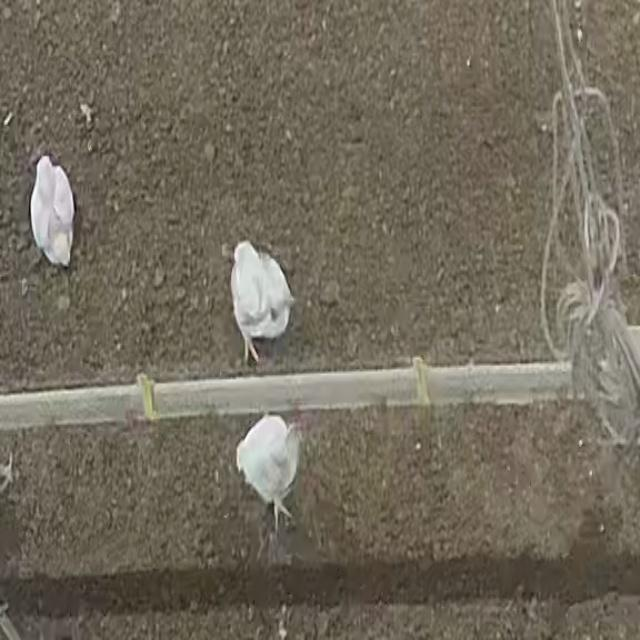chicken: (230, 238, 302, 364), (236, 413, 307, 527), (30, 152, 78, 270)
